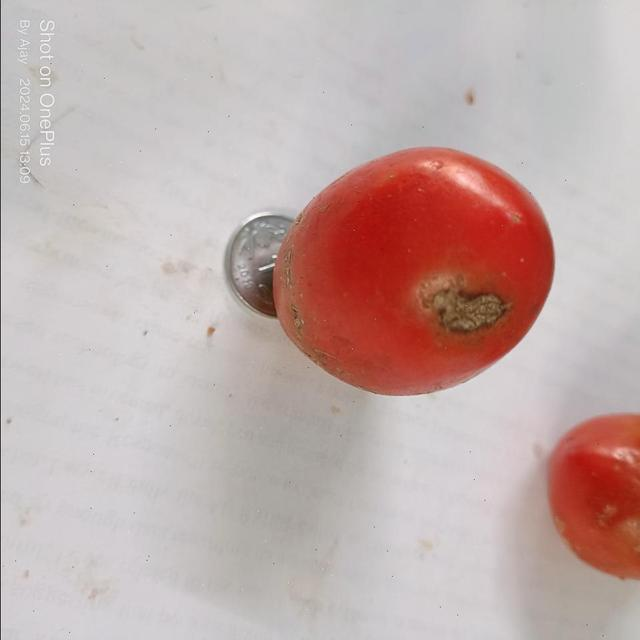Bacterial Spot Fruit: (292, 191, 337, 225)
